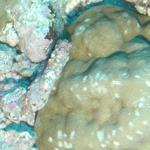alive: (4, 3, 143, 146)
